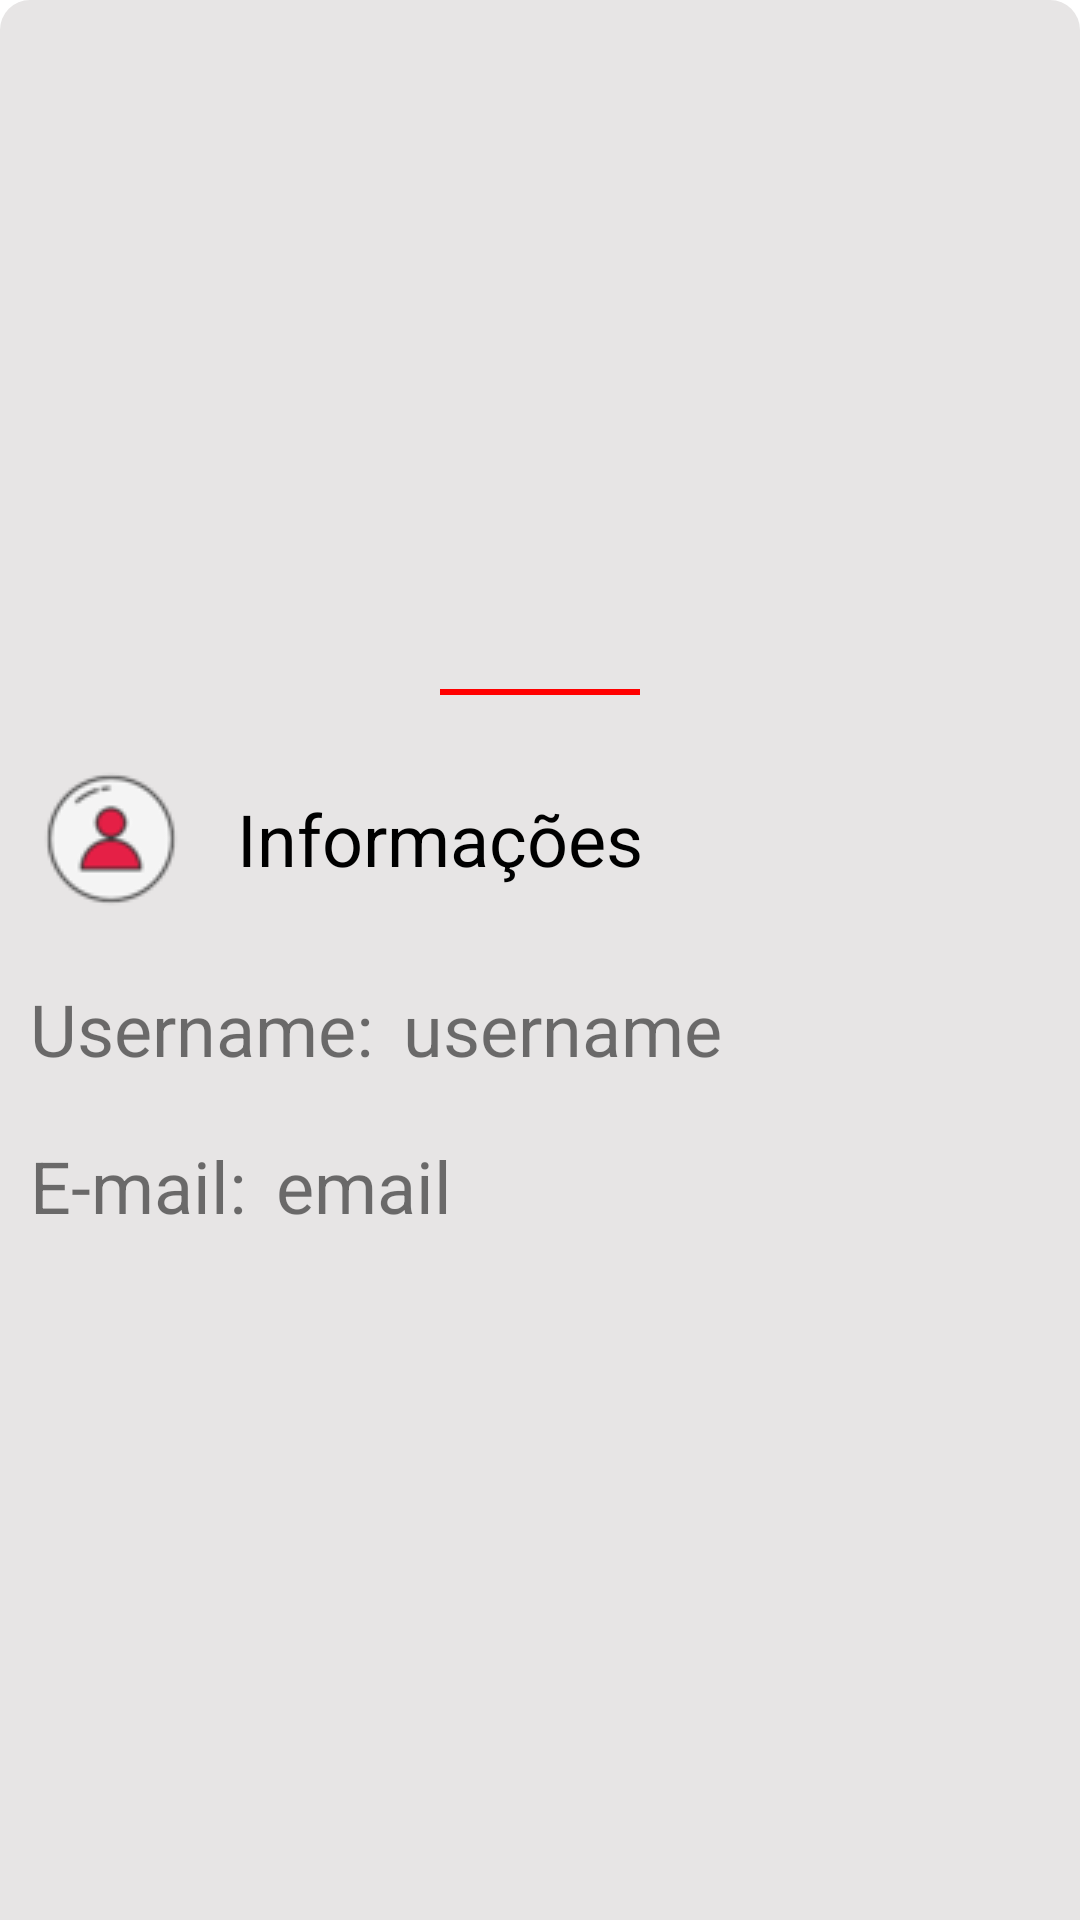

Icon click points for this 1080x1920 phone screenshot, format (x,y):
usuario: (111,839)
